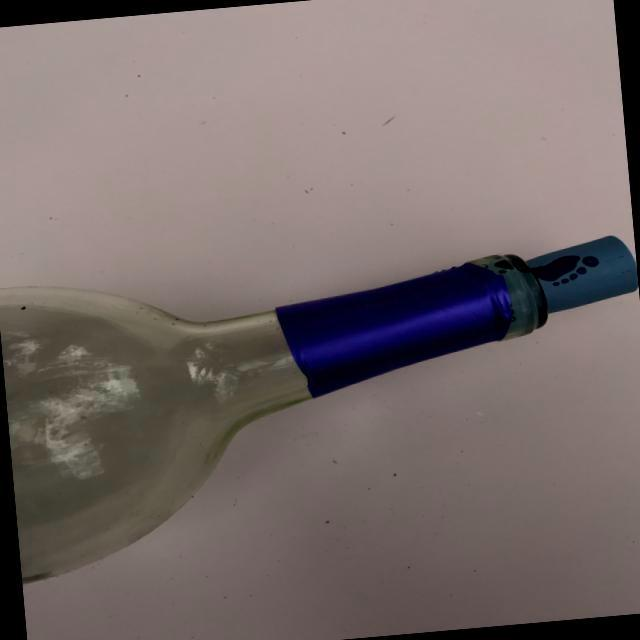glass: (0, 215, 640, 594)
